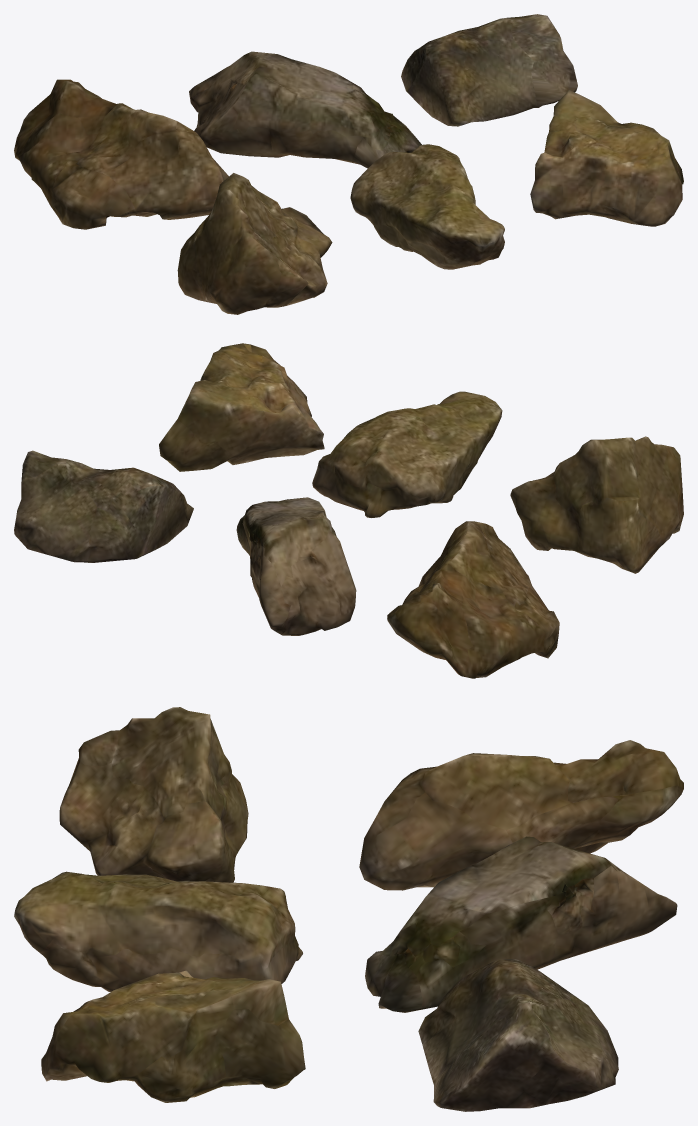
The model's file is rock_moss_set_01.glb.
The picture shows the model from 3 angles, top to bottom: view 1: azimuth 30°, elevation 25°; view 2: azimuth 150°, elevation 25°; view 3: azimuth 270°, elevation 25°; orthographic projection. The views are drawn at different scales.
Parts seen in each view (by area): view 1: rock_moss_set_01_rock01; view 2: rock_moss_set_01_rock01; view 3: rock_moss_set_01_rock01.
Part boxes in pixels (bbox=[...]): rock_moss_set_01_rock01: bbox=[14, 14, 683, 314]; rock_moss_set_01_rock01: bbox=[14, 343, 683, 678]; rock_moss_set_01_rock01: bbox=[14, 707, 683, 1111].
Bounding box in the file's own units: 8 × 1.76 × 6.94.
1 material, 1 textured.
